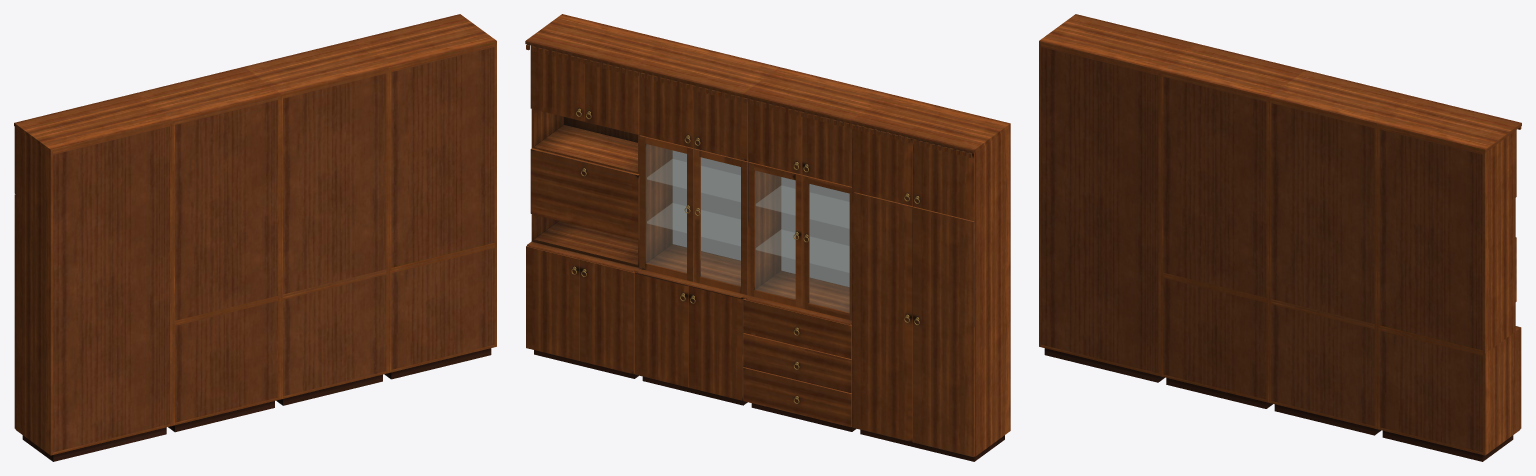
Rendered from stenka_amber_web.glb.
3 renders of one model, left to right at view 1: azimuth 30°, elevation 25°; view 2: azimuth 150°, elevation 25°; view 3: azimuth 330°, elevation 25°, orthographic.
Parts seen in each view (by area): view 1: StenkaAmber_Body; view 2: StenkaAmber_Body, Door_4L0_R_Mesh, Door_4L0_L_Mesh, Flap_1U1_Mesh, Door_2L0_R_Mesh, Door_1L0_R_Mesh, Door_2L0_L_Mesh, Door_1L0_L_Mesh, Mirror_3U0, Mirror_2U0, Glass_Door_3U0_R, Glass_Door_2U0_R (+21 smaller); view 3: StenkaAmber_Body.
Part boxes in pixels (x1,y1,x2,y2): StenkaAmber_Body: (14, 14, 496, 461); StenkaAmber_Body: (525, 14, 1010, 461); Door_4L0_R_Mesh: (913, 206, 974, 457); Door_4L0_L_Mesh: (852, 192, 913, 442); Flap_1U1_Mesh: (530, 148, 639, 239); Door_2L0_R_Mesh: (688, 286, 743, 400); Door_1L0_R_Mesh: (580, 259, 635, 374); Door_2L0_L_Mesh: (634, 272, 688, 387); Door_1L0_L_Mesh: (526, 245, 579, 360); Mirror_3U0: (781, 177, 849, 286); Mirror_2U0: (672, 150, 740, 260); Glass_Door_3U0_R: (809, 184, 849, 312); Glass_Door_2U0_R: (700, 157, 740, 285); StenkaAmber_Body: (1039, 14, 1521, 461).
Size of the model in its own units: 3.3 by 2.22 by 0.484.
4 materials, 2 textured.
